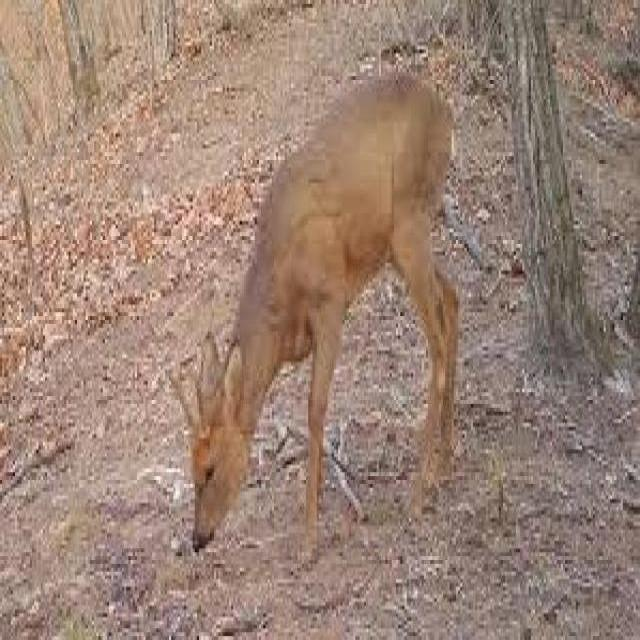deer: (184, 48, 476, 603)
